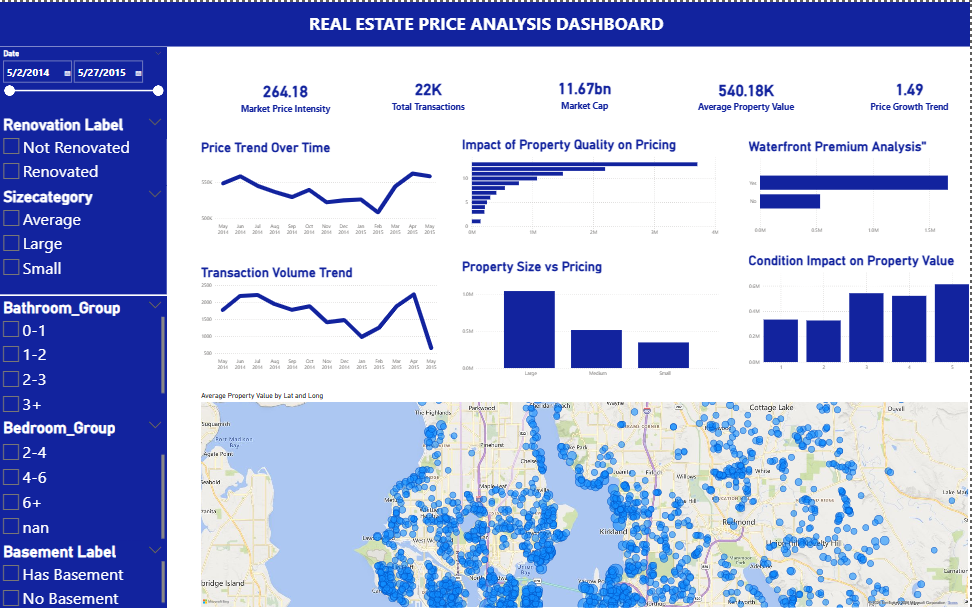

What the dashboard file says about the page in this screenshot:
{"tool":"powerbi","page":{"name":"Page 1","canvas":[2400,1500],"ordinal":0},"visuals":[{"type":"lineChart","title":"Price Trend Over Time","fields":{"Category":["housing_data.YearMonth"],"Y":["housing_data.Avg Price"]},"box":[496.7,340,593.3,243.3],"z":1000},{"type":"textbox","box":[0,0,2400,110],"z":2000},{"type":"card","fields":{"Values":["housing_data.Avg Price per Sqft"]},"box":[574.1,155.6,270.4,151.9],"z":3000},{"type":"card","fields":{"Values":["housing_data.Total Sales"]},"box":[953.3,153.3,220,150],"z":4000},{"type":"card","fields":{"Values":["housing_data.Total Revenue msr"]},"box":[1284.6,143.7,325.5,158.4],"z":5000},{"type":"card","fields":{"Values":["housing_data.Avg Price"]},"box":[1696.3,151.9,300,151.9],"z":6000},{"type":"lineChart","title":"Transaction Volume Trend","fields":{"Category":["housing_data.YearMonth"],"Y":["housing_data.Total Sales"]},"box":[496.1,649.3,597.2,269.5],"z":7000},{"type":"barChart","title":"Impact of Property Quality on Pricing","fields":{"Category":["housing_data.Grade"],"Y":["housing_data.Avg Price"]},"box":[1142.3,333.8,643.1,254.2],"z":8000},{"type":"columnChart","title":"Property Size vs Pricing","fields":{"Category":["housing_data.Size Category"],"Y":["housing_data.Avg Price"]},"box":[1142.3,633.9,643.1,300.1],"z":9000},{"type":"barChart","title":"Waterfront Premium Analysis\"","fields":{"Category":["housing_data.Waterfront Label"],"Y":["housing_data.Avg Price"]},"box":[1846.7,336.9,554.3,245],"z":10000},{"type":"map","fields":{"Y":["housing_data.Lat"],"X":["housing_data.Long"],"Size":["housing_data.Avg Price"]},"box":[496.7,963.3,1903.3,536.7],"z":11000},{"type":"columnChart","title":"Condition Impact on Property Value","fields":{"Category":["housing_data.Condition"],"Y":["housing_data.Avg Price"]},"box":[1846.7,618.6,554.3,300.1],"z":12000},{"type":"card","fields":{"Values":["housing_data.Price Growth %"]},"box":[2140.7,151.9,218.5,148.1],"z":13000},{"type":"slicer","fields":{"Values":["housing_data.Date"]},"box":[0,110,416.7,226.7],"z":14000},{"type":"slicer","fields":{"Values":["housing_data.Relativesizecategory"]},"box":[0,453.3,416.7,270],"z":15000},{"type":"slicer","fields":{"Values":["housing_data.Renovation Label"]},"box":[0,273.3,416.7,180],"z":16000},{"type":"slicer","fields":{"Values":["housing_data.Bathroom_Group"]},"box":[0,724.4,416.5,296.2],"z":17000},{"type":"slicer","fields":{"Values":["housing_data.Bedroom_Group"]},"box":[0,1020.6,416.5,307.9],"z":18000},{"type":"slicer","fields":{"Values":["housing_data.Basement Label"]},"box":[0,1330,416.7,170],"z":19000}]}

Visuals, with their boxes in screenshot pixels (x1, y1, x2, y2), scaled from the page's 2400x1500 canvas onto the 972x608 screenshot:
"Price Trend Over Time" lineChart: <bbox>201, 138, 441, 236</bbox>
textbox: <bbox>0, 0, 971, 45</bbox>
card - housing_data.Avg Price per Sqft: <bbox>233, 63, 342, 125</bbox>
card - housing_data.Total Sales: <bbox>386, 62, 475, 123</bbox>
card - housing_data.Total Revenue msr: <bbox>520, 58, 652, 122</bbox>
card - housing_data.Avg Price: <bbox>687, 62, 809, 123</bbox>
"Transaction Volume Trend" lineChart: <bbox>201, 263, 443, 372</bbox>
"Impact of Property Quality on Pricing" barChart: <bbox>463, 135, 723, 238</bbox>
"Property Size vs Pricing" columnChart: <bbox>463, 257, 723, 379</bbox>
"Waterfront Premium Analysis"" barChart: <bbox>748, 137, 971, 236</bbox>
map - housing_data.Lat x housing_data.Long: <bbox>201, 390, 971, 607</bbox>
"Condition Impact on Property Value" columnChart: <bbox>748, 251, 971, 372</bbox>
card - housing_data.Price Growth %: <bbox>867, 62, 955, 122</bbox>
slicer - housing_data.Date: <bbox>0, 45, 169, 136</bbox>
slicer - housing_data.Relativesizecategory: <bbox>0, 184, 169, 293</bbox>
slicer - housing_data.Renovation Label: <bbox>0, 111, 169, 184</bbox>
slicer - housing_data.Bathroom_Group: <bbox>0, 294, 169, 414</bbox>
slicer - housing_data.Bedroom_Group: <bbox>0, 414, 169, 538</bbox>
slicer - housing_data.Basement Label: <bbox>0, 539, 169, 607</bbox>
